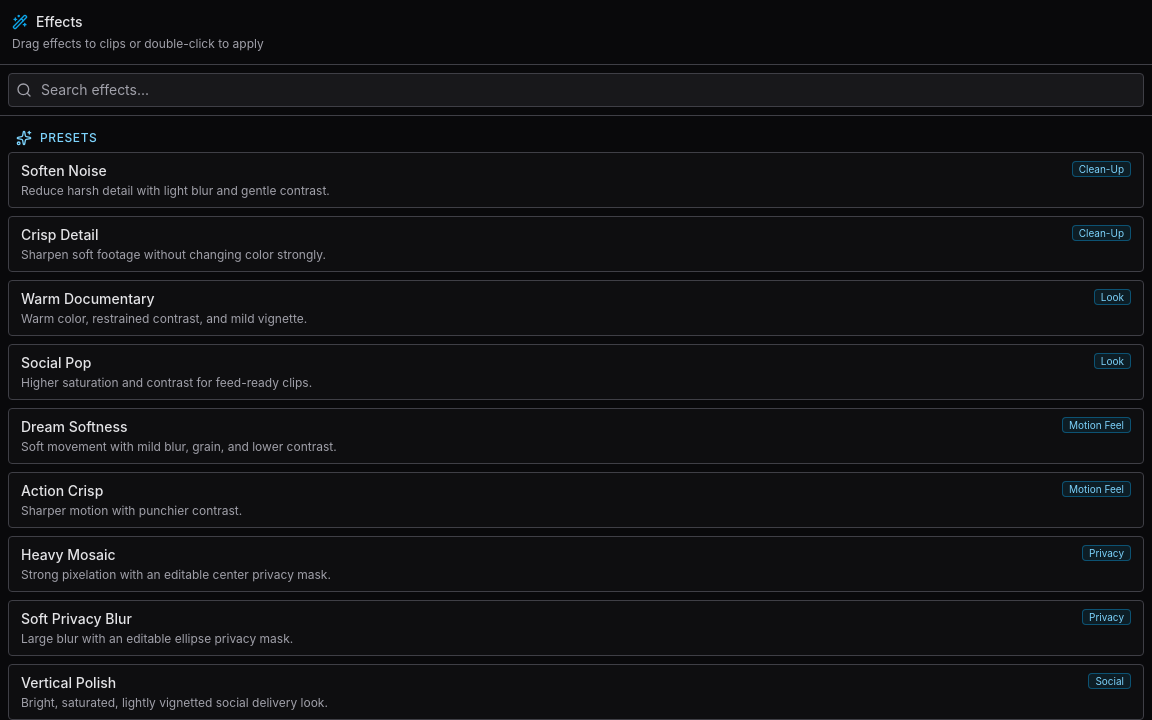
Scenario: EffectsBrowser › search functionality › should be case-insensitive when searching
The width and height of the screenshot is (1152, 720).
Type "WIPE" into the field with placeholder "Search effects..." at (576, 90), box [8,73,1144,107]
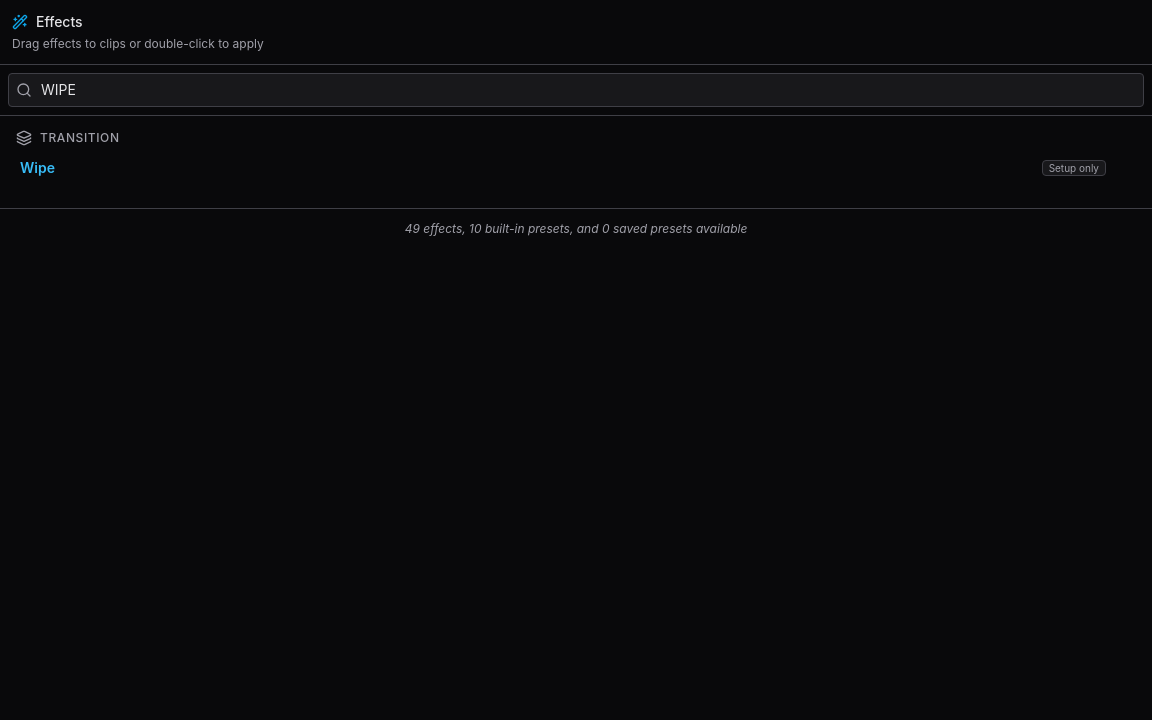
Now the text "Wipe" is shown, box [20,159,55,176]
